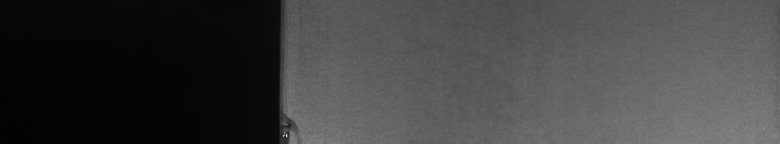hb: (288, 109, 304, 136)
